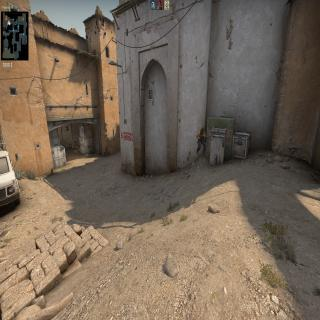T-Head: (201, 126, 205, 134)
